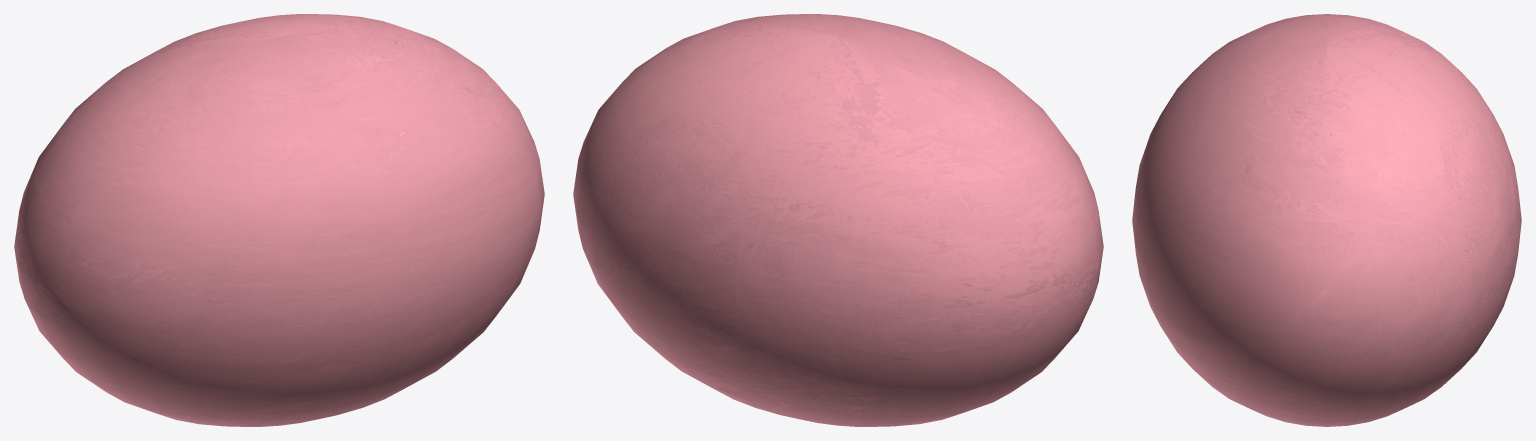
File: rose2.FBX
3 renders of one model, left to right at view 1: azimuth 30°, elevation 25°; view 2: azimuth 150°, elevation 25°; view 3: azimuth 270°, elevation 25°, orthographic. The views are drawn at different scales.
Visible parts, largest first — view 1: Sphère004; view 2: Sphère004; view 3: Sphère004.
Boxes of the visible parts, x1=… form: Sphère004: x1=14, y1=14, x2=544, y2=426; Sphère004: x1=573, y1=14, x2=1103, y2=426; Sphère004: x1=1132, y1=14, x2=1521, y2=426.
Size of the model in its own units: 2.65 by 1.9 by 1.94.
1 material, 1 textured.
